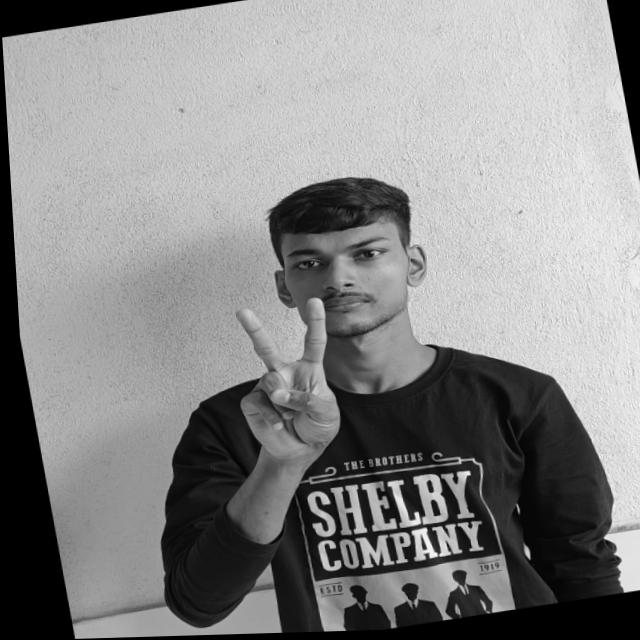Victory: (216, 294, 355, 468)
